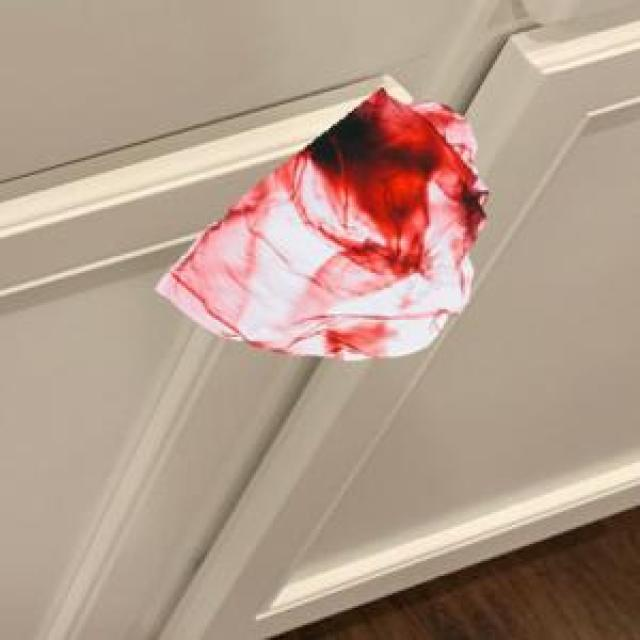waste: (156, 90, 488, 359)
